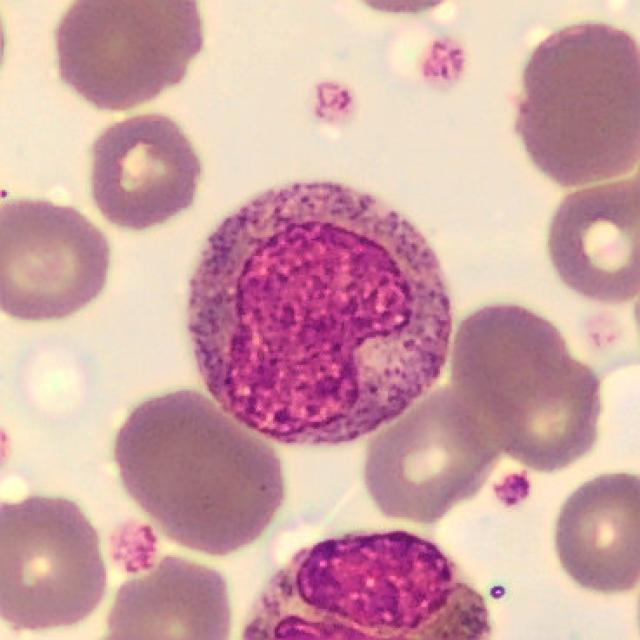Metamielocito: (183, 180, 452, 448)
